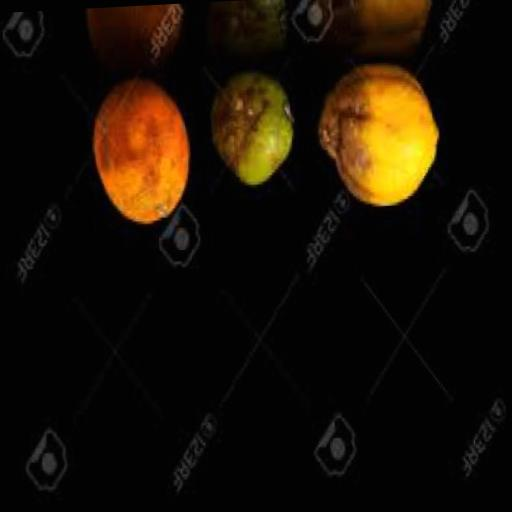biodegradable: (318, 60, 446, 212), (92, 73, 198, 232), (213, 74, 300, 192), (313, 0, 437, 63), (90, 6, 189, 76), (210, 1, 289, 61)
